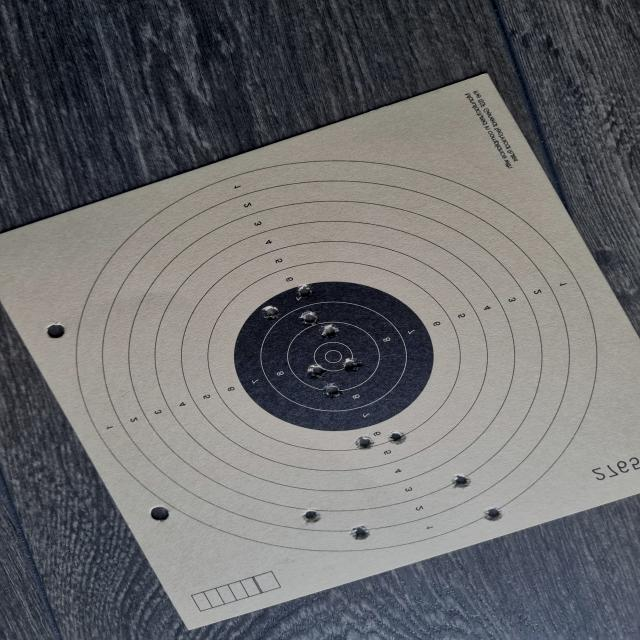1: (480, 505, 506, 525)
10: (302, 362, 329, 381), (340, 356, 366, 375)
2: (346, 522, 372, 541)
3: (450, 471, 476, 492), (298, 507, 324, 527)
6: (386, 427, 409, 449), (351, 436, 375, 455)
7: (294, 281, 318, 302), (258, 304, 282, 322)
8: (297, 307, 320, 328)
9: (317, 322, 343, 343), (320, 383, 344, 399)
Target: (71, 159, 600, 556)
black_contour: (235, 282, 434, 432)
